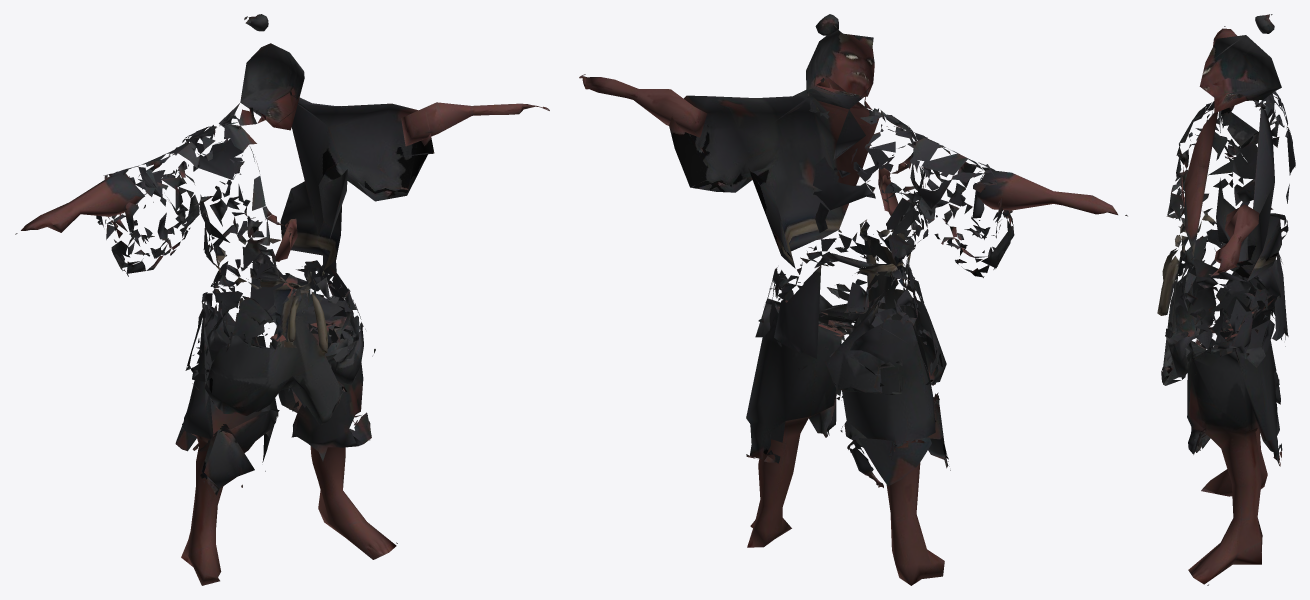
The model's file is oni_src.glb.
3 renders of one model, left to right at view 1: azimuth 30°, elevation 25°; view 2: azimuth 150°, elevation 25°; view 3: azimuth 270°, elevation 25°, orthographic. The views are drawn at different scales.
Visible parts, largest first — view 1: tripo_node_7c7ea468-b95a-4c44-b869-02344f3deef4; view 2: tripo_node_7c7ea468-b95a-4c44-b869-02344f3deef4; view 3: tripo_node_7c7ea468-b95a-4c44-b869-02344f3deef4.
Boxes of the visible parts, x1=… form: tripo_node_7c7ea468-b95a-4c44-b869-02344f3deef4: x1=15, y1=14, x2=549, y2=585; tripo_node_7c7ea468-b95a-4c44-b869-02344f3deef4: x1=579, y1=14, x2=1127, y2=585; tripo_node_7c7ea468-b95a-4c44-b869-02344f3deef4: x1=1157, y1=14, x2=1295, y2=585.
Size of the model in its own units: 1 by 0.9658 by 0.2334.
1 material, 1 textured.
